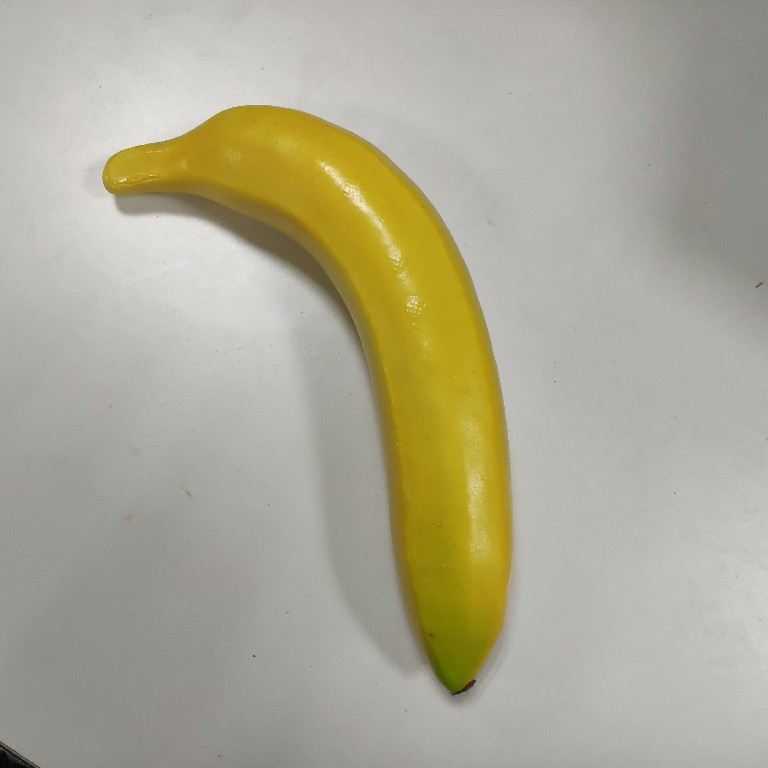fruit_banana: (99, 100, 518, 705)
